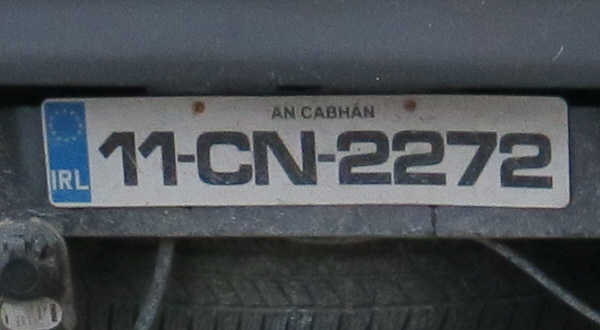license_plate: (42, 94, 571, 209)
